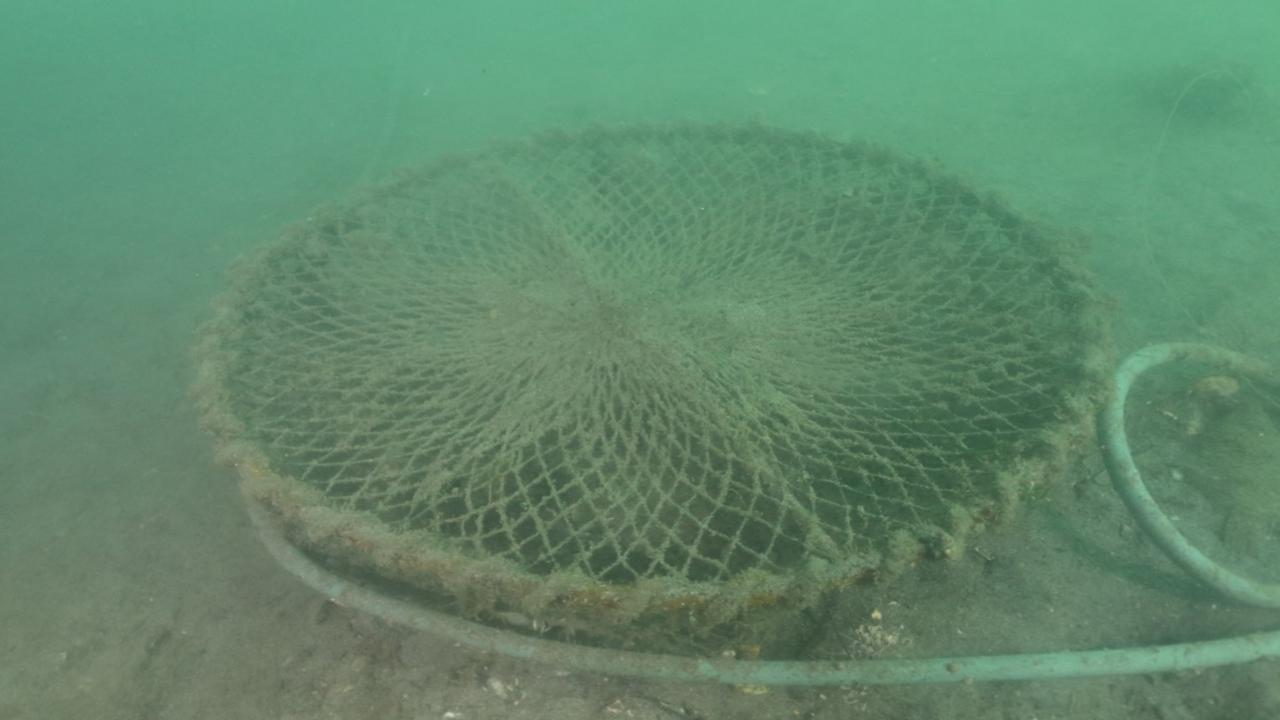circular fish trap: (200, 120, 1111, 651)
